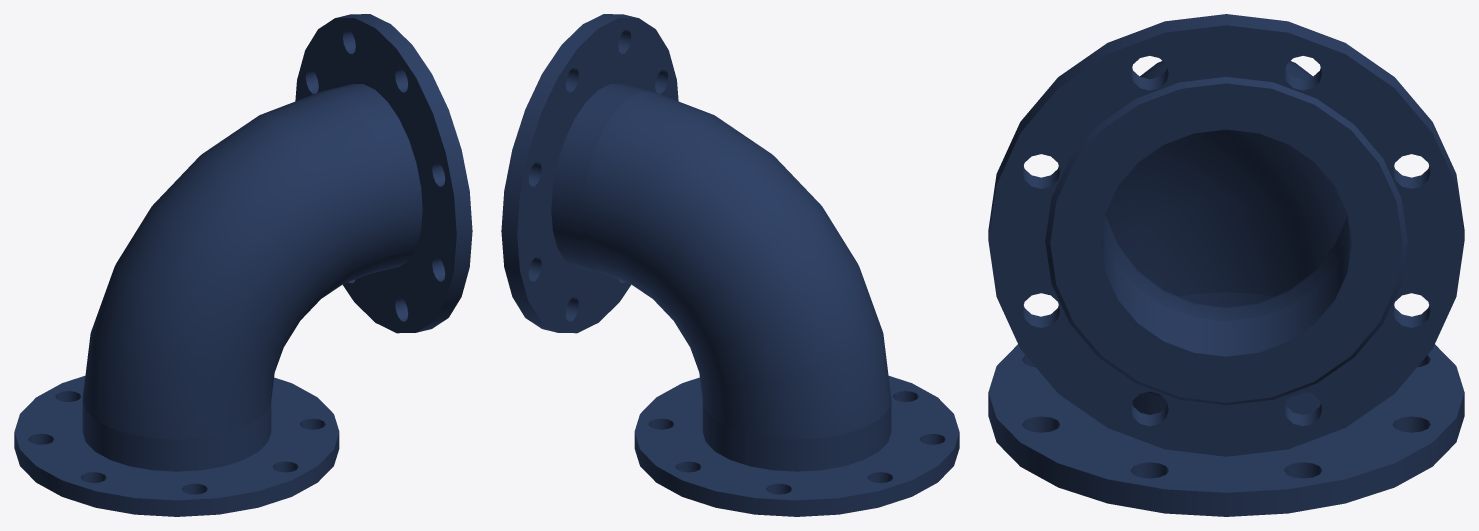
File: mercury.glb
3 renders of one model, left to right at view 1: azimuth 30°, elevation 25°; view 2: azimuth 150°, elevation 25°; view 3: azimuth 270°, elevation 25°, orthographic. The views are drawn at different scales.
Visible parts, largest first — view 1: RFQ---15FL16EET(400); view 2: RFQ---15FL16EET(400); view 3: RFQ---15FL16EET(400).
Part boxes in pixels (x1,y1,x2,y2): RFQ---15FL16EET(400): (14, 14, 472, 516); RFQ---15FL16EET(400): (501, 14, 959, 516); RFQ---15FL16EET(400): (988, 14, 1464, 516).
Bounding box in the file's own units: 0.3625 × 0.3625 × 0.285.
